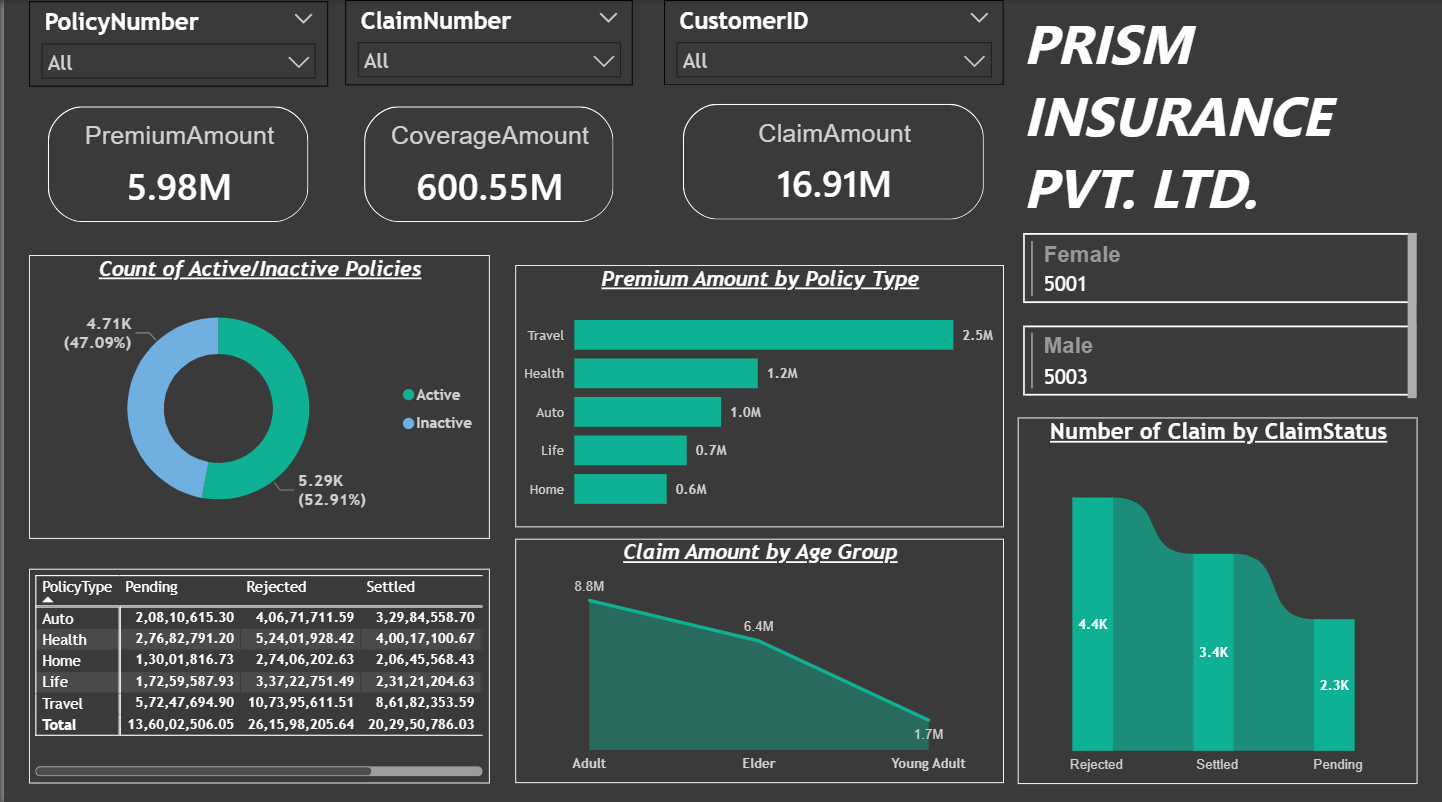

Layout of this report page (visuals, bound fields, positions):
{"tool":"powerbi","page":{"name":"Page 1","canvas":[1280,720],"ordinal":0},"visuals":[{"type":"slicer","fields":{"Values":["InsuranceData.PolicyNumber"]},"box":[22.5,1.2,266.2,76.2],"z":0},{"type":"slicer","fields":{"Values":["InsuranceData.ClaimNumber"]},"box":[303.8,0,256.2,76.2],"z":1000},{"type":"slicer","fields":{"Values":["InsuranceData.CustomerID"]},"box":[587.5,0,302.5,76.2],"z":2000},{"type":"textbox","box":[902.5,0,377.5,236.2],"z":3000},{"type":"cardVisual","fields":{"Data":["Sum(InsuranceData.PremiumAmount)"]},"box":[22.5,77.5,266.2,137.5],"z":4000},{"type":"cardVisual","fields":{"Data":["Sum(InsuranceData.CoverageAmount)"]},"box":[303.8,77.5,256.2,137.5],"z":5000},{"type":"cardVisual","fields":{"Data":["Sum(InsuranceData.ClaimAmount)"]},"box":[587.5,76.2,302.5,137.5],"z":6000},{"type":"multiRowCard","fields":{"Values":["InsuranceData.Gender","CountNonNull(InsuranceData.Gender)"]},"box":[902.5,202.5,360,168.8],"z":7000},{"type":"ribbonChart","title":"Number of Claim by ClaimStatus","fields":{"Category":["InsuranceData.ClaimStatus"],"Y":["CountNonNull(InsuranceData.ClaimStatus)"]},"box":[902.5,371.2,356.2,326.2],"z":8000},{"type":"barChart","title":"Premium Amount by Policy Type","fields":{"Category":["InsuranceData.PolicyType"],"Y":["Sum(InsuranceData.PremiumAmount)"]},"box":[455,236.2,435,233.8],"z":9000},{"type":"lineChart","title":"Claim Amount by Age Group","fields":{"Category":["InsuranceData.Age Group"],"Y":["Sum(InsuranceData.ClaimAmount)"]},"box":[455,480,435,217.5],"z":10000},{"type":"donutChart","title":"Count of Active/Inactive Policies","fields":{"Category":["InsuranceData.Active/Inactive"],"Y":["CountNonNull(InsuranceData.Active/Inactive)"]},"box":[22.5,227.5,410,252.5],"z":10001},{"type":"pivotTable","fields":{"Values":["Sum(InsuranceData.CoverageAmount)"],"Rows":["InsuranceData.PolicyType"],"Columns":["InsuranceData.ClaimStatus"]},"box":[22.5,506.2,410,191.2],"z":10002}]}

Visuals, with their boxes in screenshot pixels (x1, y1, x2, y2), scaled from the page's 1280x720 canvas onto the 1442x802 screenshot:
slicer - InsuranceData.PolicyNumber: Rect(25, 1, 325, 86)
slicer - InsuranceData.ClaimNumber: Rect(342, 0, 631, 85)
slicer - InsuranceData.CustomerID: Rect(662, 0, 1003, 85)
textbox: Rect(1017, 0, 1441, 263)
cardVisual - Sum(InsuranceData.PremiumAmount): Rect(25, 86, 325, 239)
cardVisual - Sum(InsuranceData.CoverageAmount): Rect(342, 86, 631, 239)
cardVisual - Sum(InsuranceData.ClaimAmount): Rect(662, 85, 1003, 238)
multiRowCard - InsuranceData.Gender x CountNonNull(InsuranceData.Gender): Rect(1017, 226, 1422, 414)
"Number of Claim by ClaimStatus" ribbonChart: Rect(1017, 413, 1418, 777)
"Premium Amount by Policy Type" barChart: Rect(513, 263, 1003, 524)
"Claim Amount by Age Group" lineChart: Rect(513, 535, 1003, 777)
"Count of Active/Inactive Policies" donutChart: Rect(25, 253, 487, 535)
pivotTable - Sum(InsuranceData.CoverageAmount) x InsuranceData.PolicyType: Rect(25, 564, 487, 777)
